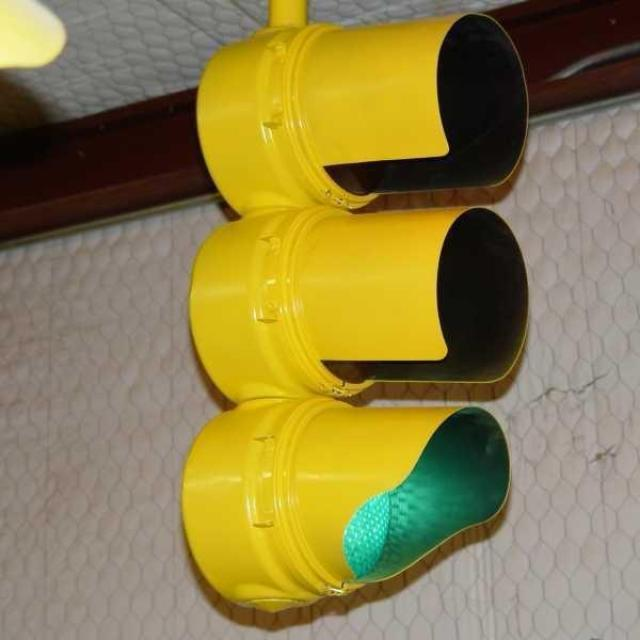Traffic Light -Green-: (103, 0, 588, 633)
